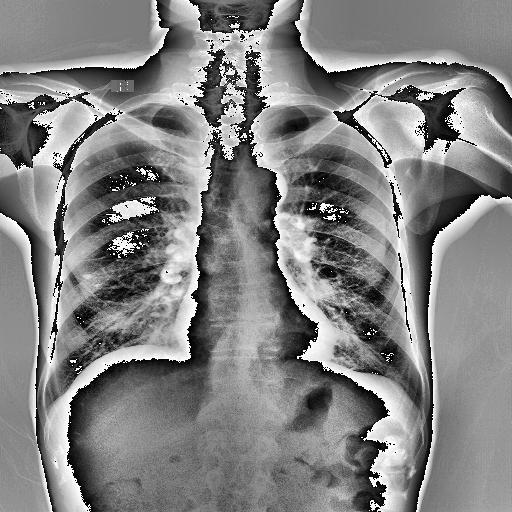0- Aortic enlargement: (238, 166, 290, 207)
2- Calcification: (158, 220, 199, 303), (158, 223, 196, 298), (278, 211, 314, 263), (275, 210, 311, 262), (80, 272, 94, 280)
8- Nodule-Mass: (80, 274, 92, 279), (82, 160, 92, 166), (82, 274, 92, 280), (84, 160, 90, 165)
9- Other lesion: (158, 220, 199, 303), (275, 210, 311, 262), (80, 274, 92, 279), (84, 160, 90, 165)
